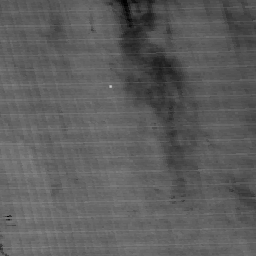Target: (106, 82, 113, 91)
